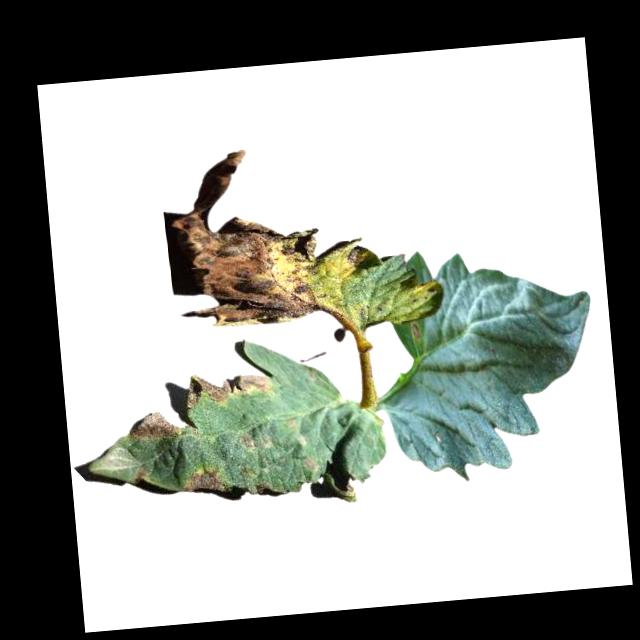Early_blight: (166, 143, 331, 332), (183, 365, 273, 409), (129, 410, 180, 444), (181, 466, 228, 498), (346, 242, 370, 269), (300, 456, 318, 477), (132, 463, 152, 481), (410, 324, 421, 344), (240, 433, 250, 448)
